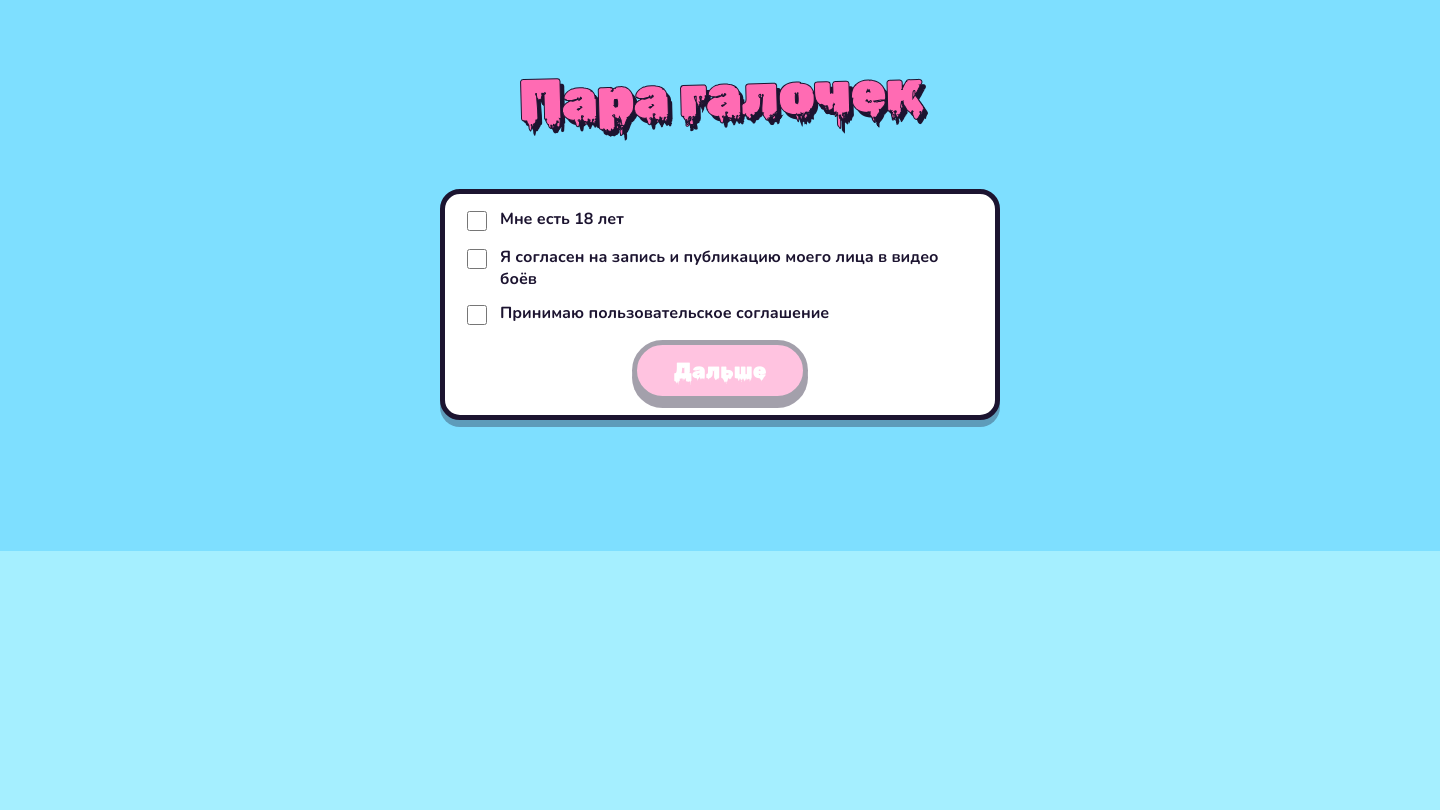
Test: Consent — criterion 4: error handling › criterion-4: shows error-message on generic Error (network failure)
Click the checkbox with test id "checkbox-adult" at (477, 221), box [467,211,487,231]
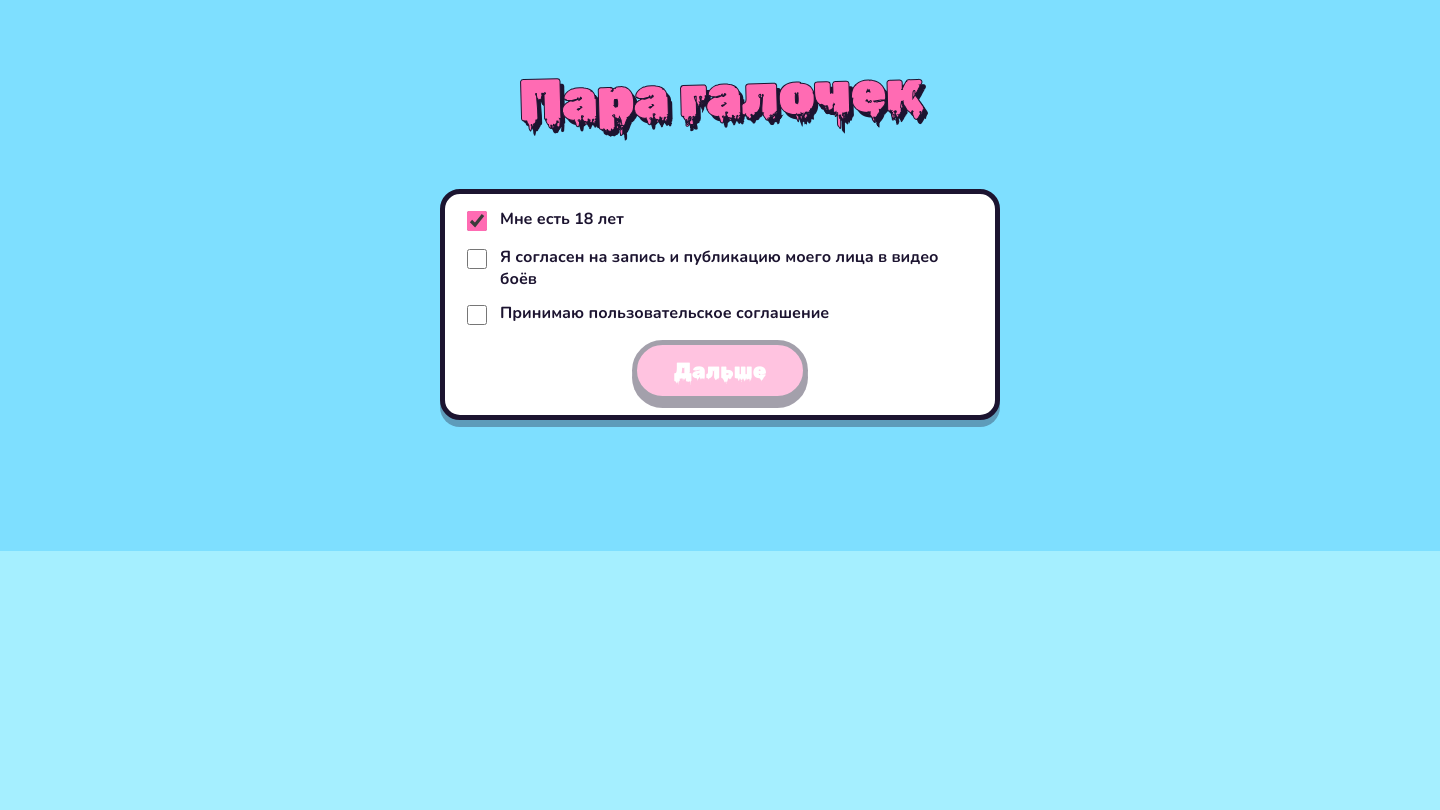
Click the checkbox with test id "checkbox-recording" at (477, 259), box [467,249,487,269]
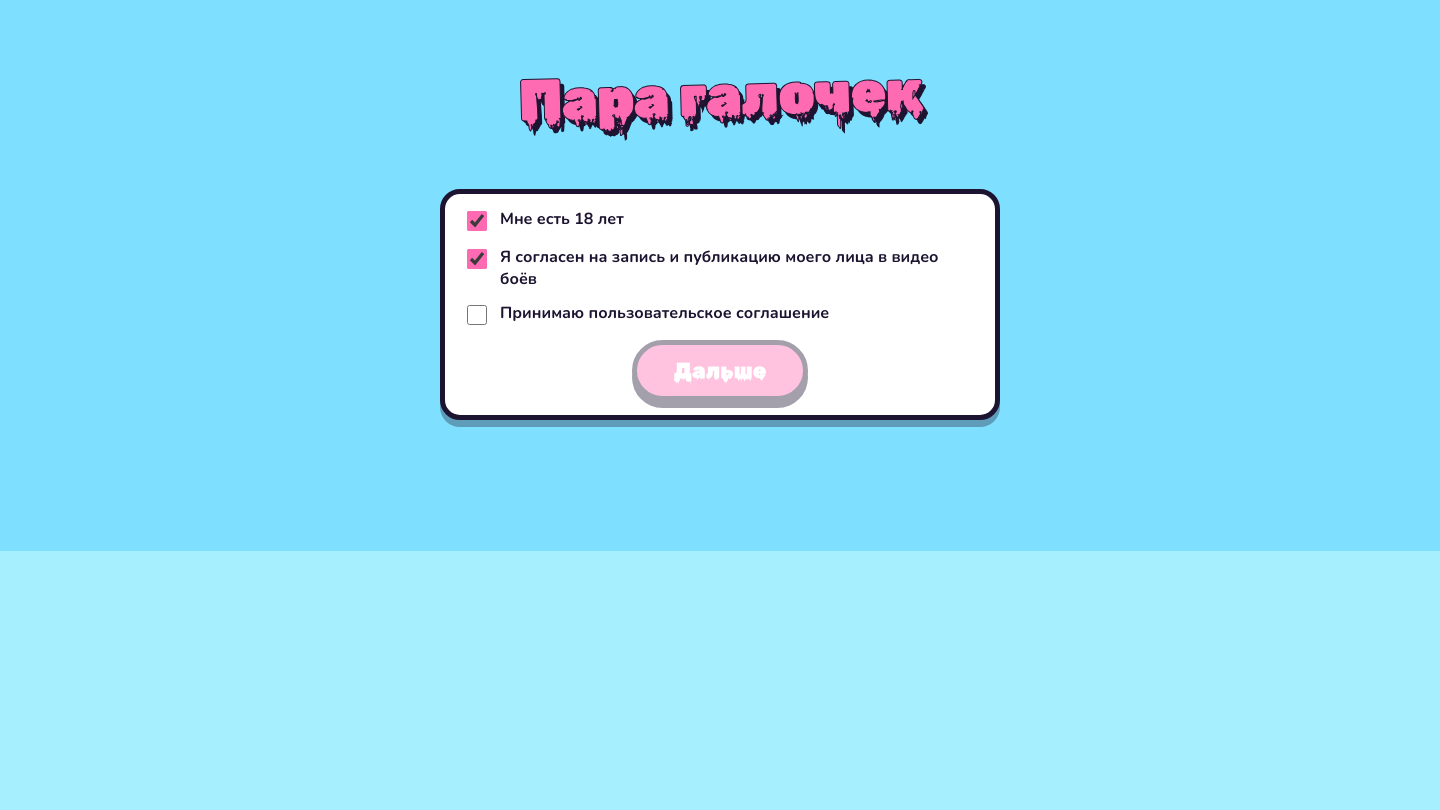
Click the checkbox with test id "checkbox-tos" at (477, 315), box [467,305,487,325]
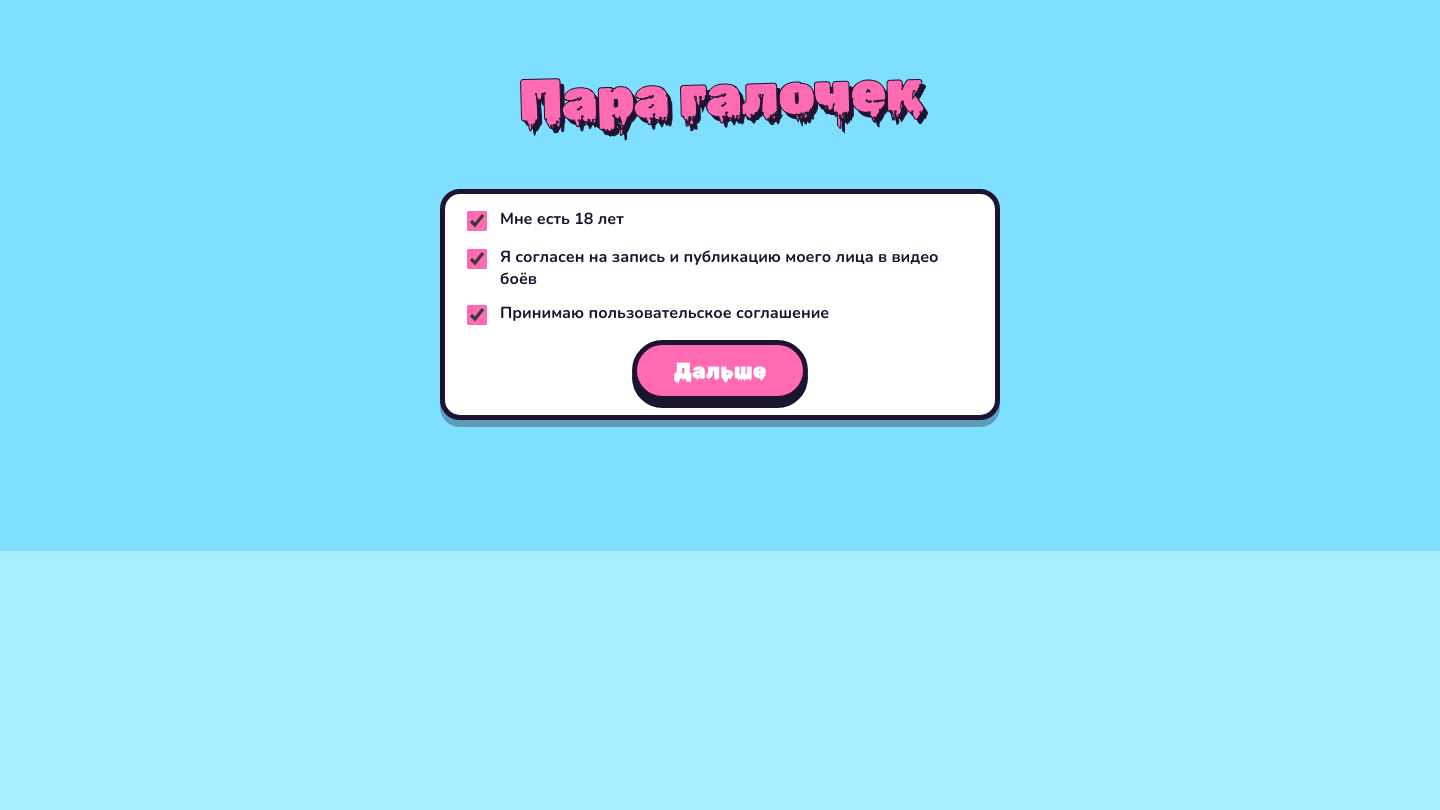
Click the button with test id "btn-continue" at (720, 370), box [632,340,808,401]
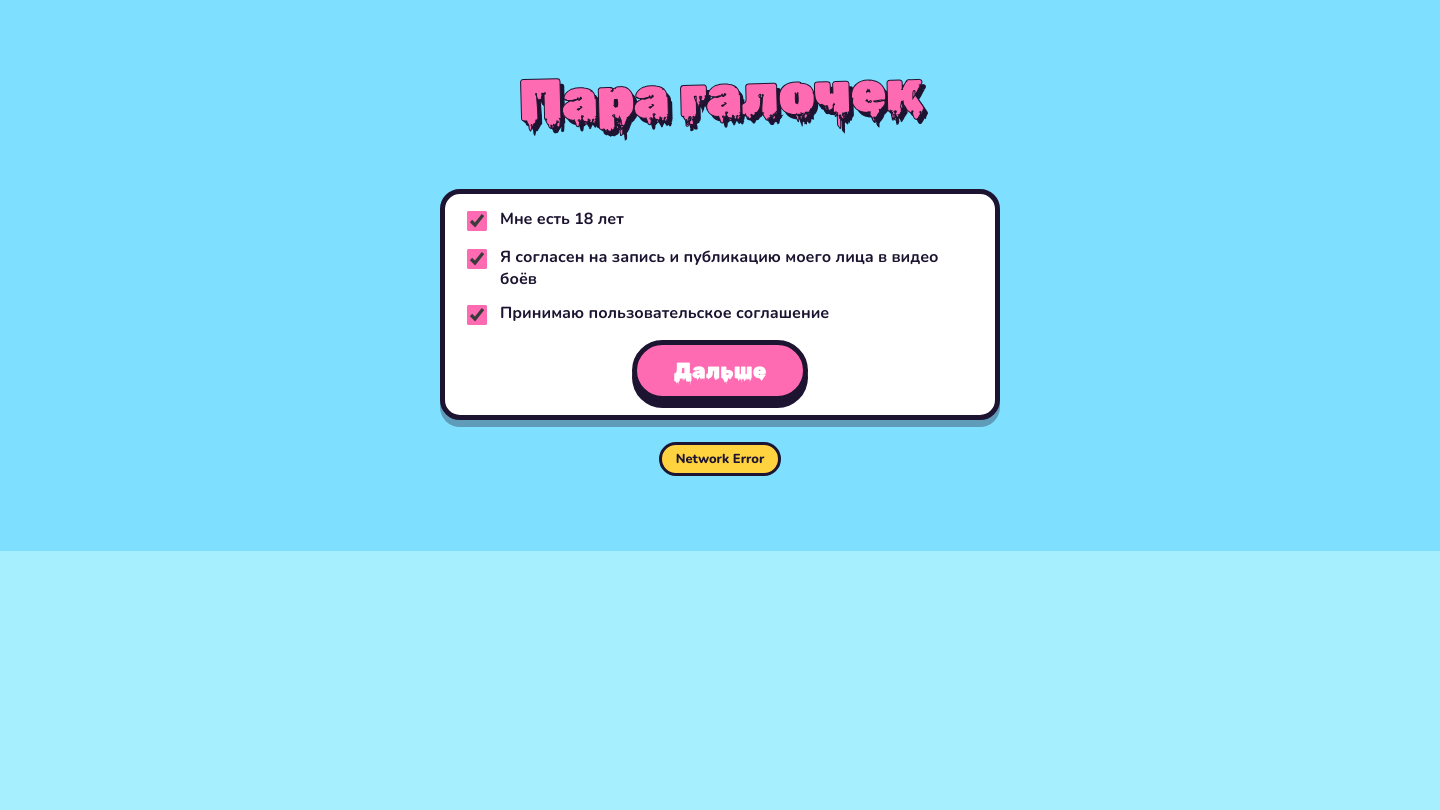
Check: the message "Network Error" is shown, box [659,442,781,476]
Check: the message with test id "error-message" reads "Network Error", box [676,450,764,468]
